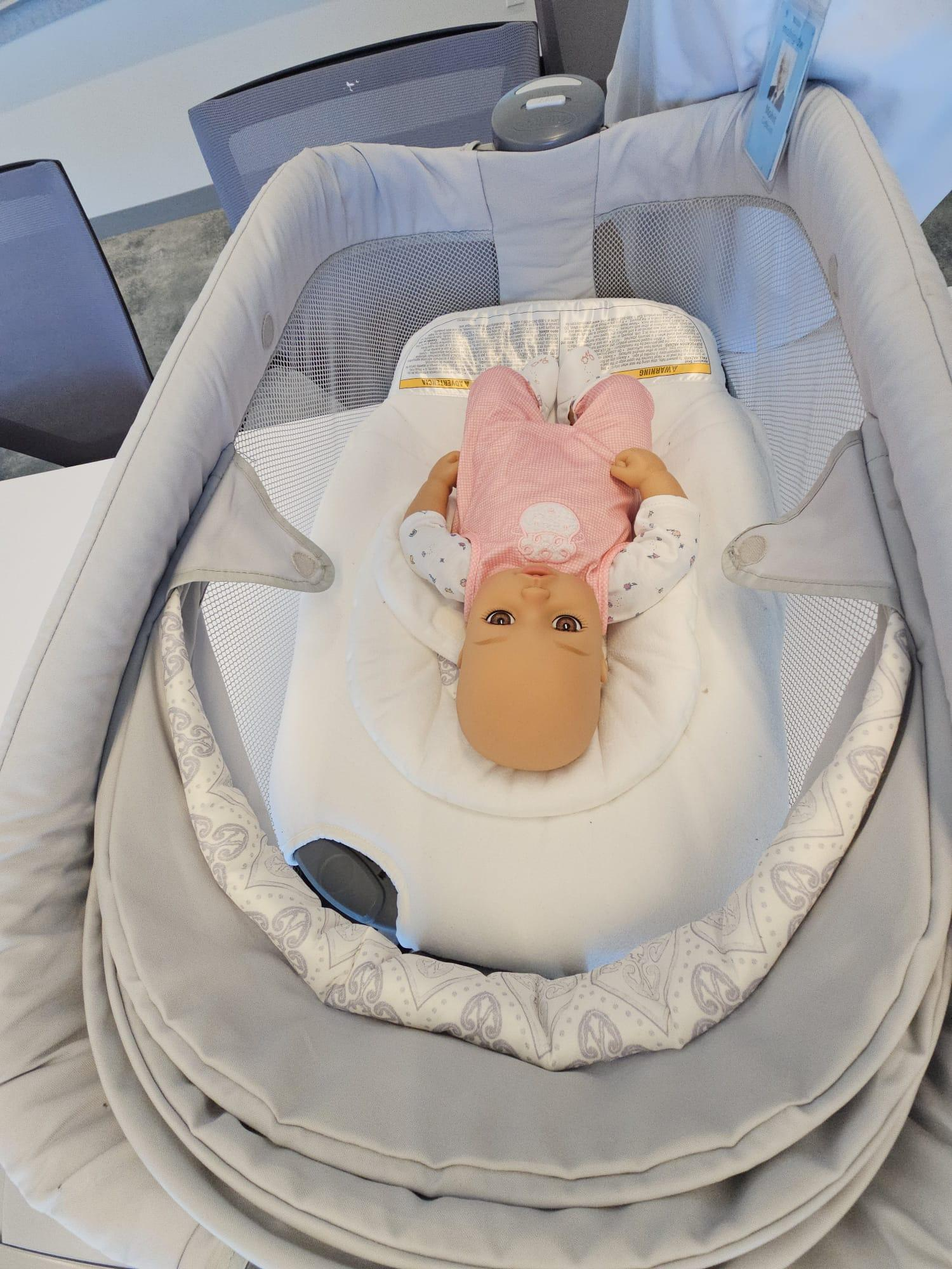baby: (409, 320, 717, 799)
